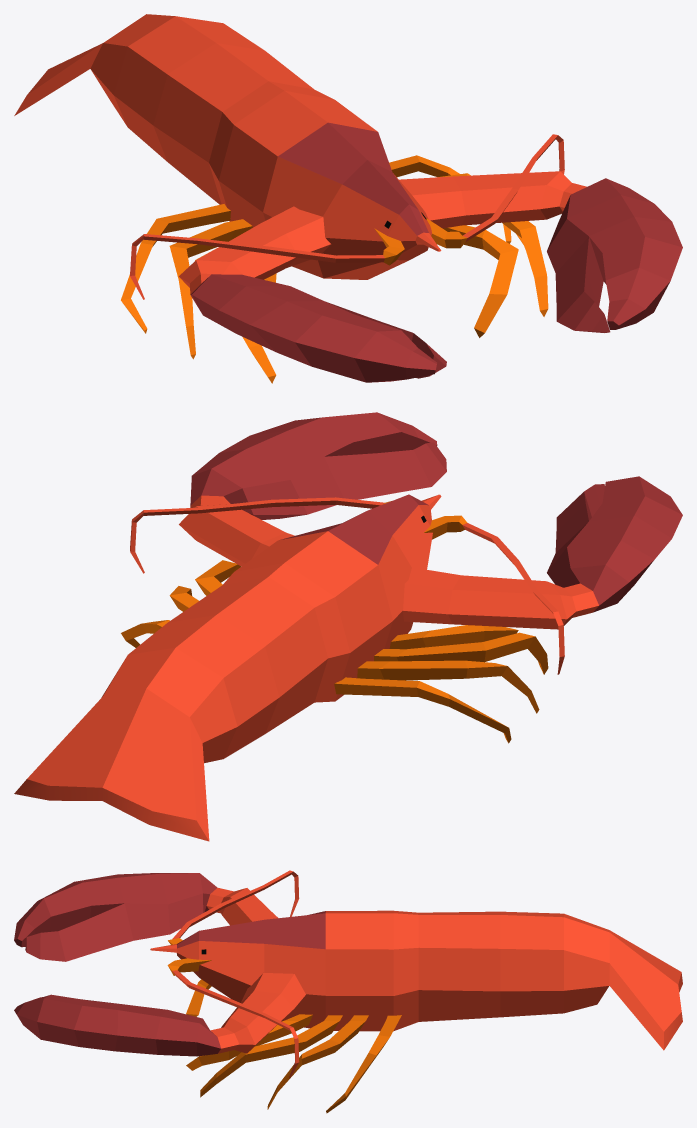
Rendered from 85f61acd-cfbf-4c82-b919-a5548be93364.glb.
3 views of the same model, one above another, from view 1: azimuth 30°, elevation 25°; view 2: azimuth 150°, elevation 25°; view 3: azimuth 270°, elevation 25° (orthographic). The views are drawn at different scales.
Parts seen in each view (by area): view 1: Geo_Lobster; view 2: Geo_Lobster; view 3: Geo_Lobster.
Boxes of the visible parts, x1,y1,x2,y2 form: Geo_Lobster: (14, 14, 682, 383); Geo_Lobster: (14, 412, 682, 841); Geo_Lobster: (14, 870, 682, 1113).
Bounding box in the file's own units: 51.23 × 18.97 × 86.81.
Materials: 1 (1 with a texture image).
